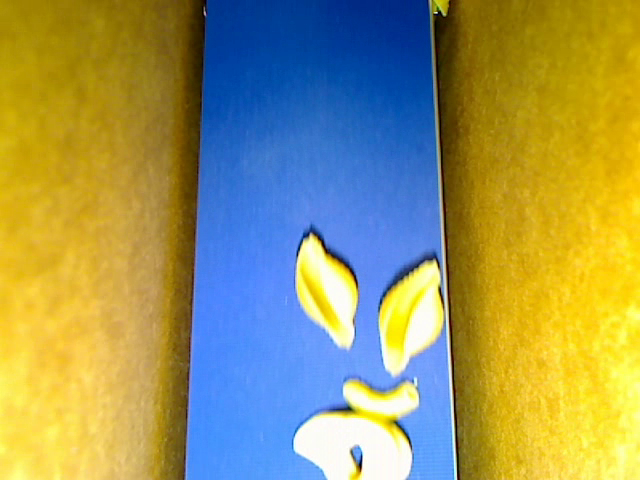elbow: (342, 378, 419, 421)
shell: (294, 232, 359, 350), (379, 258, 444, 376)
tortellini: (292, 411, 413, 479)
